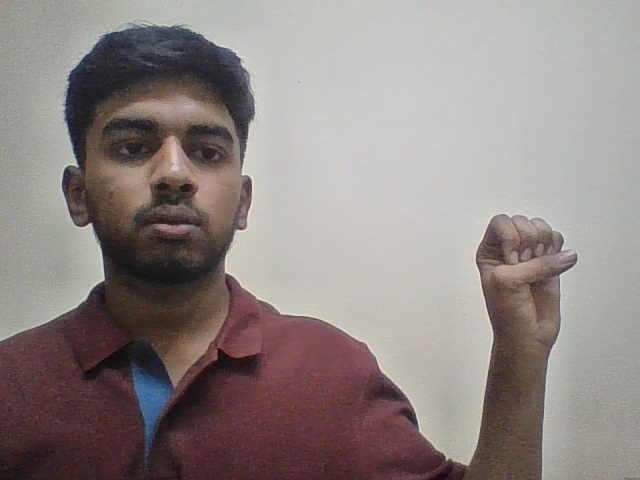E: (468, 196, 596, 370)
